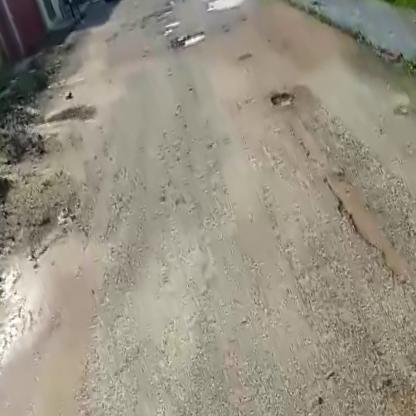pothole: (203, 0, 261, 16), (173, 26, 206, 49), (268, 88, 294, 110)
